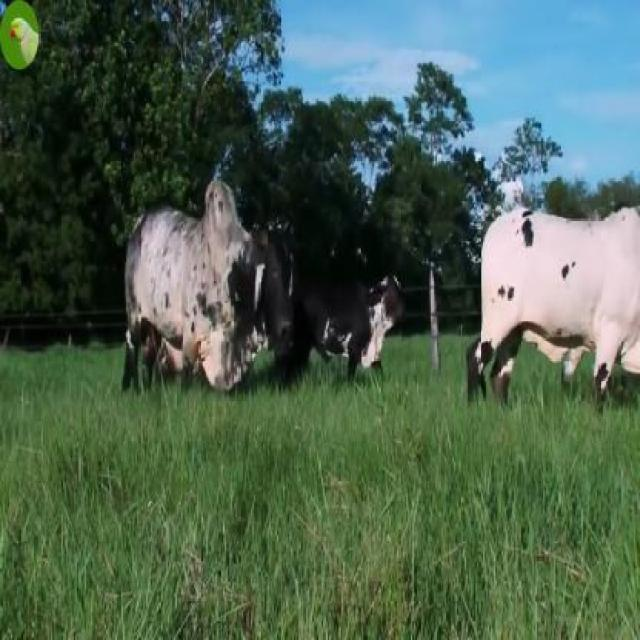Cow: (120, 178, 278, 390)
